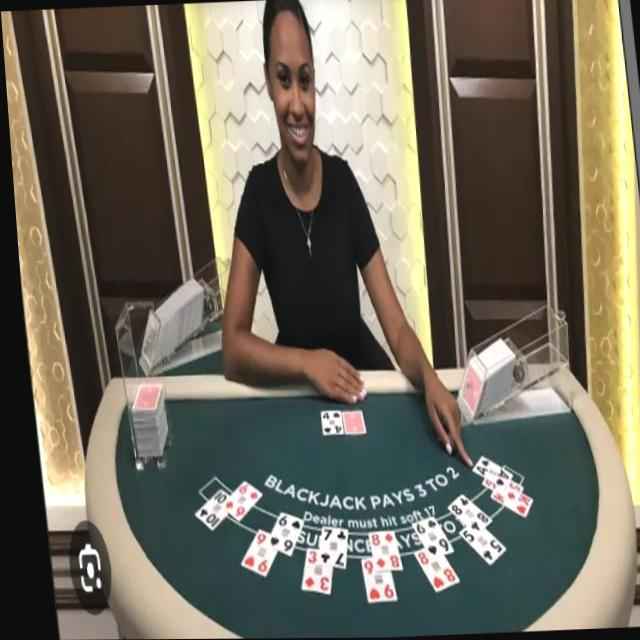Card-10: (185, 488, 222, 530)
Card-3: (292, 547, 323, 594)
Card-4: (314, 409, 336, 434)
Card-5: (450, 527, 497, 566), (474, 477, 514, 502)
Card-6: (402, 517, 444, 558), (259, 511, 295, 556), (214, 481, 254, 520)
Card-7: (309, 526, 339, 568)
Card-8: (404, 548, 449, 591), (439, 494, 483, 537), (360, 532, 393, 570)
Card-9: (231, 528, 268, 578), (351, 558, 387, 601)
Card-A: (464, 454, 505, 488)
Card-K: (482, 491, 524, 518)
